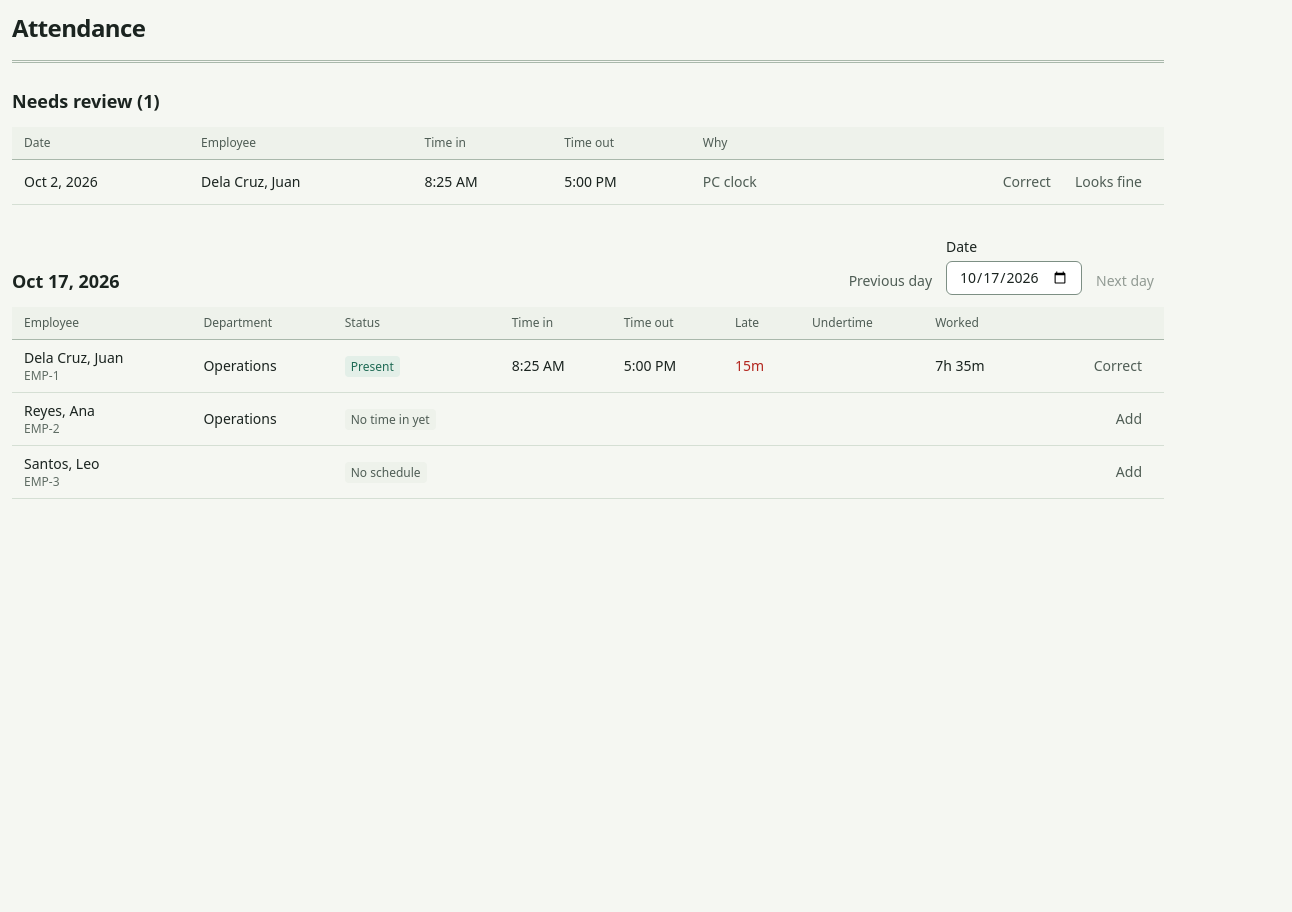
Test case: AttendancePage › needs a reason before saving a correction
Check: the row "Dela Cruz, Juan EMP-1" is shown, box [12,340,1164,392]
Click the button with aria-label "Correct Dela Cruz, Juan".
click(1118, 366)  # box [1084,352,1152,380]
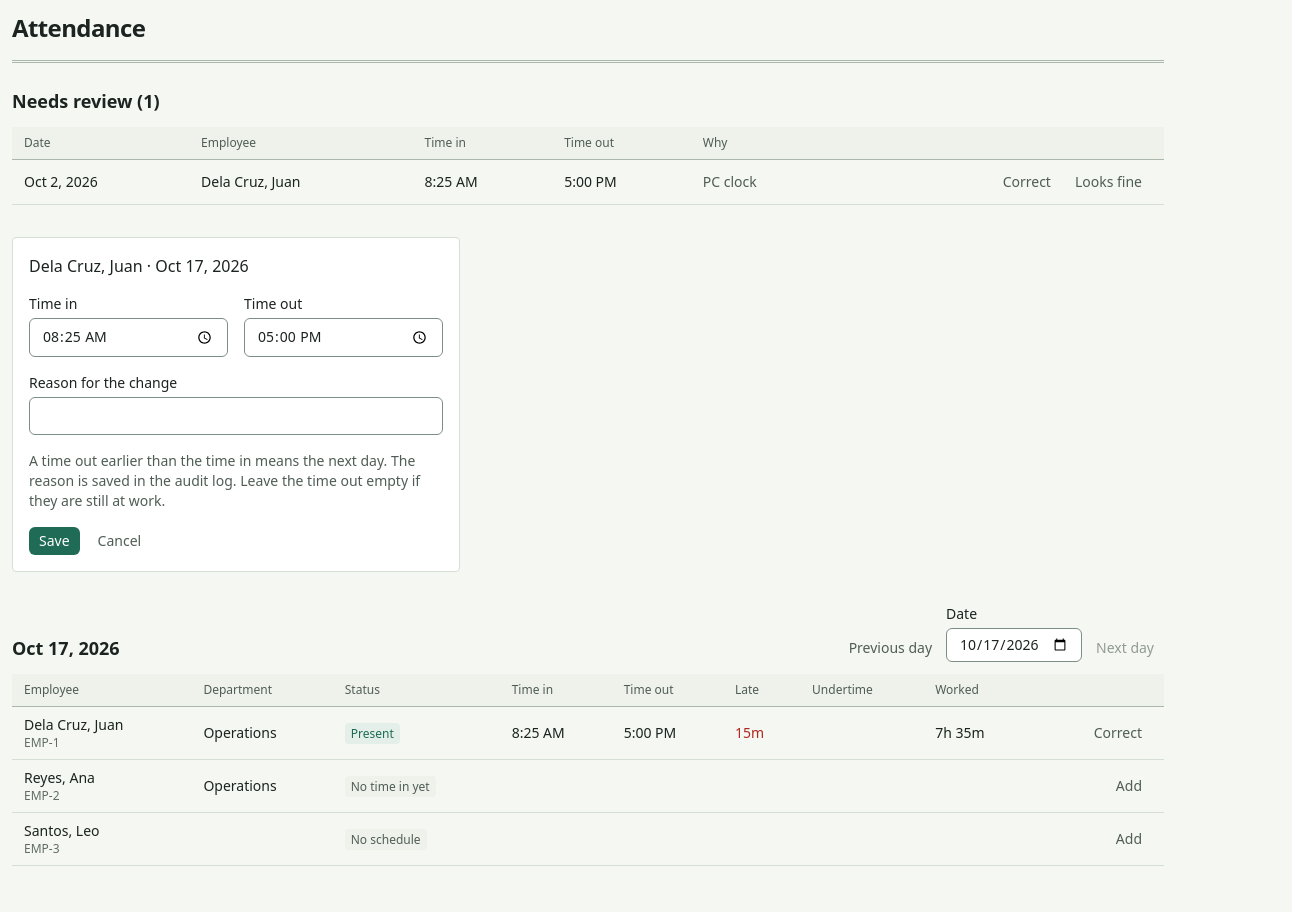
Check: the time field labelled "Time in" holds "08:25", box [29,318,228,357]
Click the button "Save".
click(54, 541)  # box [29,527,80,555]
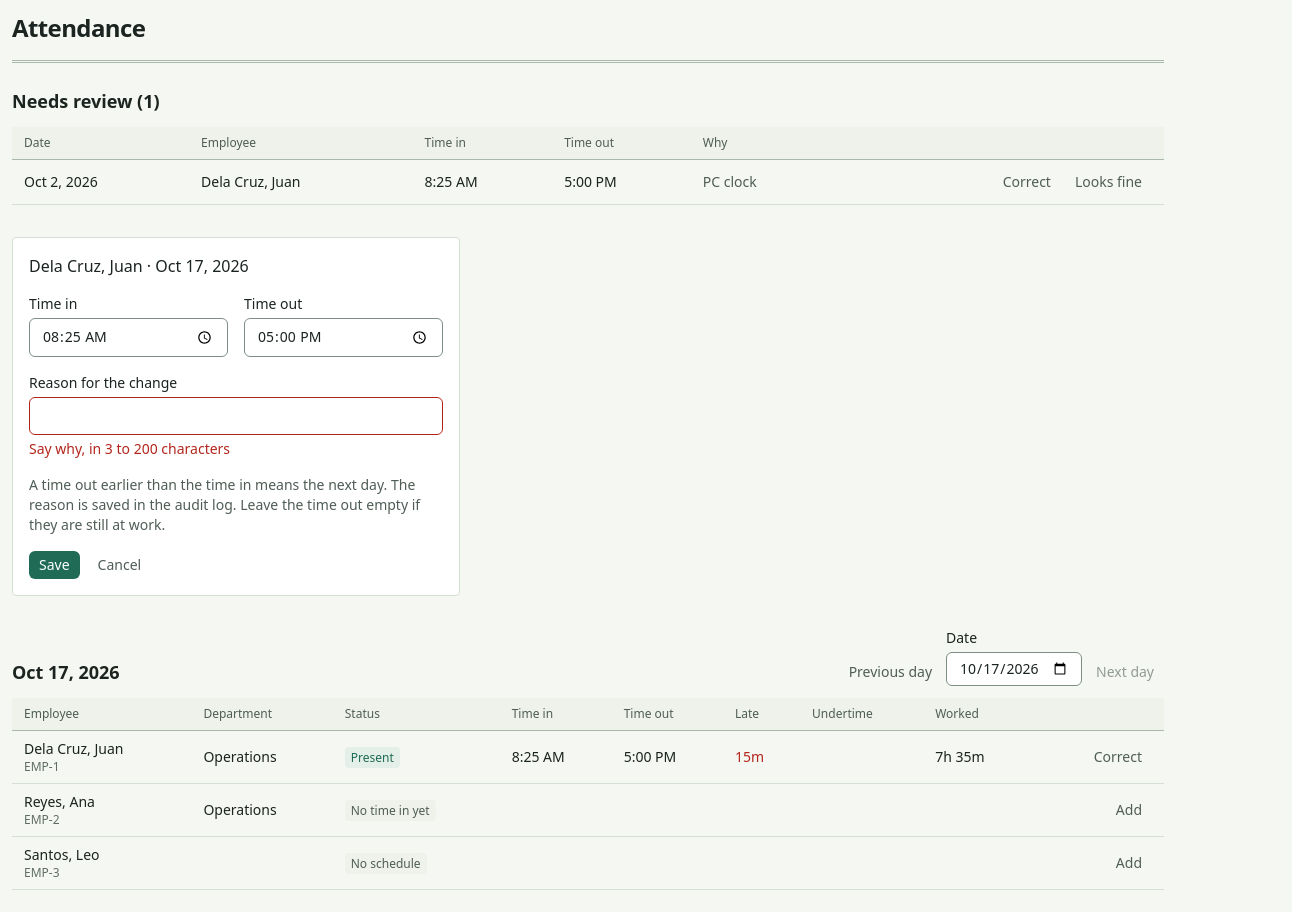
Check: the text "Say why, in 3 to 200 characters" is shown, box [29,439,230,458]
